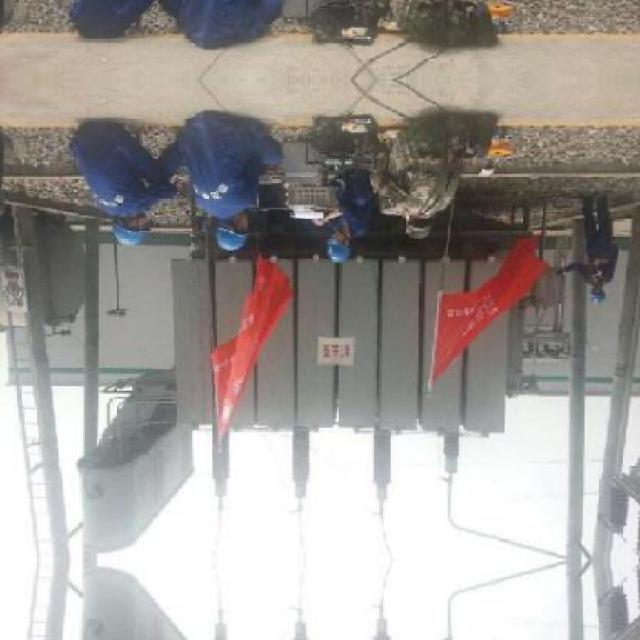con casco: (310, 218, 390, 274), (212, 213, 261, 255), (108, 210, 166, 242)
